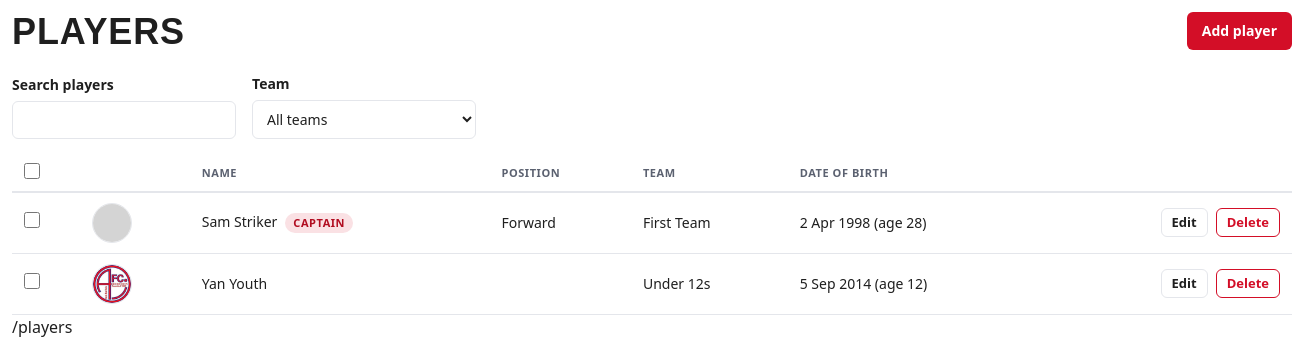
Test case: PlayersPage › filters by search and team, kept in the address
The width and height of the screenshot is (1304, 354).
Expected: the text "Sam Striker" is shown, [202,212,277,231]
Select "Under 12s" in the dropdown labelled "Team" at (364,120), box [252,100,476,139]
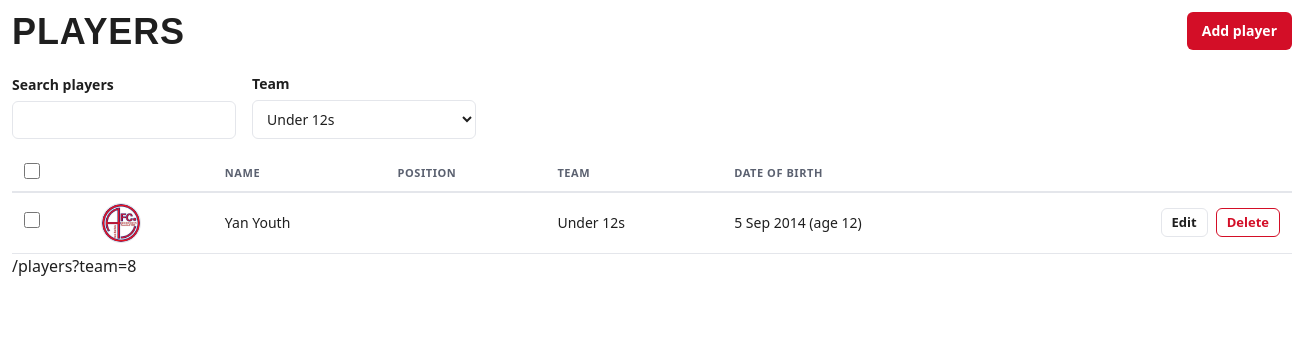
Expected: the text "Yan Youth" is shown, [225,213,290,232]
Now the text "Sam Striker" is gone
Type "zzz" into the search field labelled "Search players" at (124,120), box [12,101,236,139]
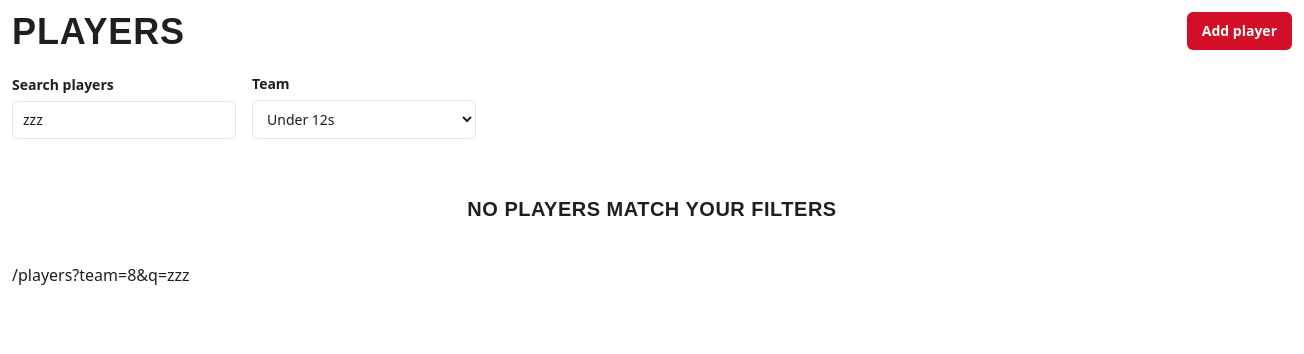
Now the text "No players match your filters" is shown, box [467,195,837,223]
